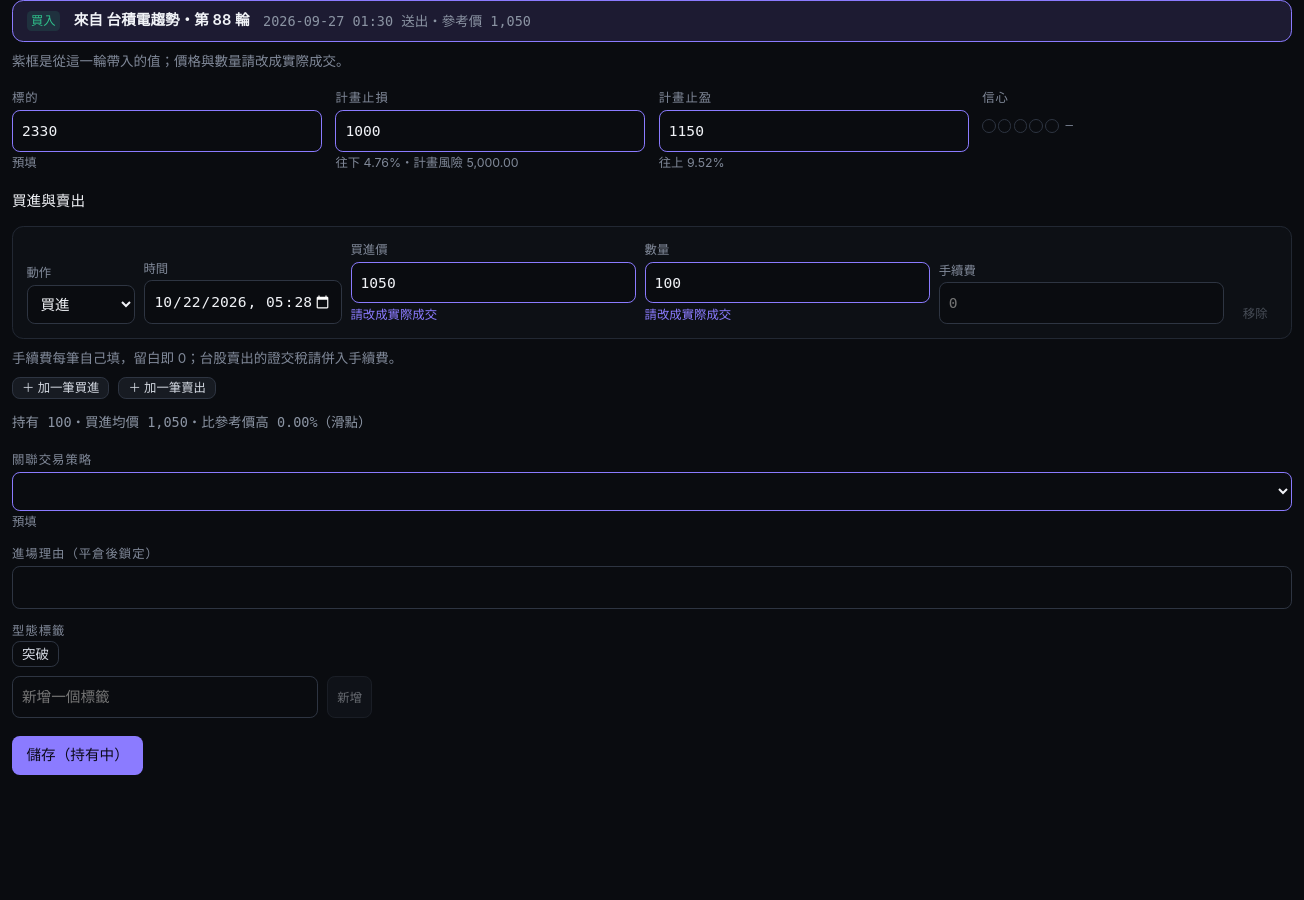
Scenario: SpotTradeForm：從連結打開 › 知道是台股後，數量不是整數立刻提示
The width and height of the screenshot is (1304, 900).
Step 1. Replace the text in the field with test id "fill-quantity" with "100.5" → coordinates (787, 282), box [645,262,930,303]
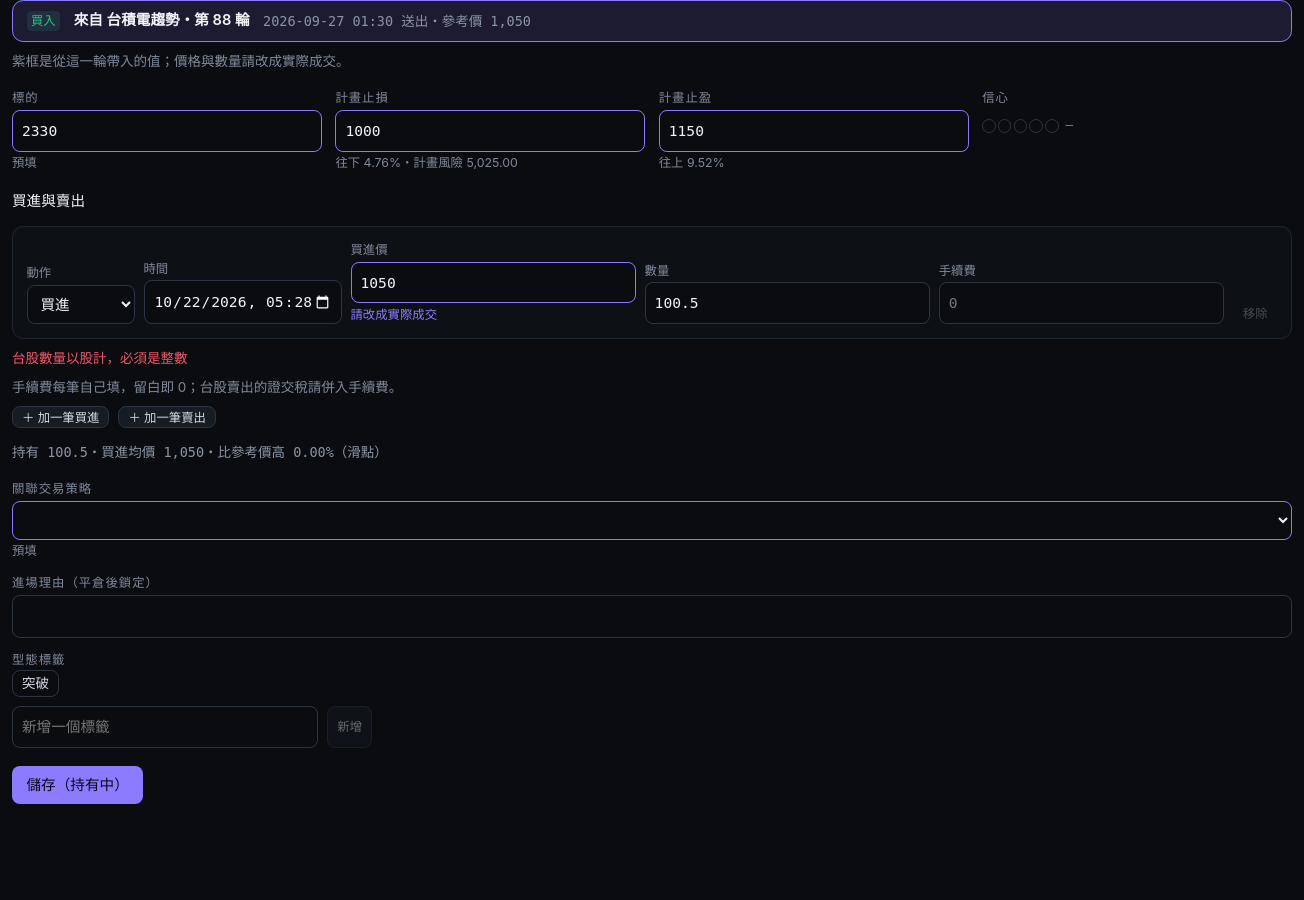
Expected: the text with test id "fill-whole-shares" reads "台股數量以股計，必須是整數", [12,350,188,366]
